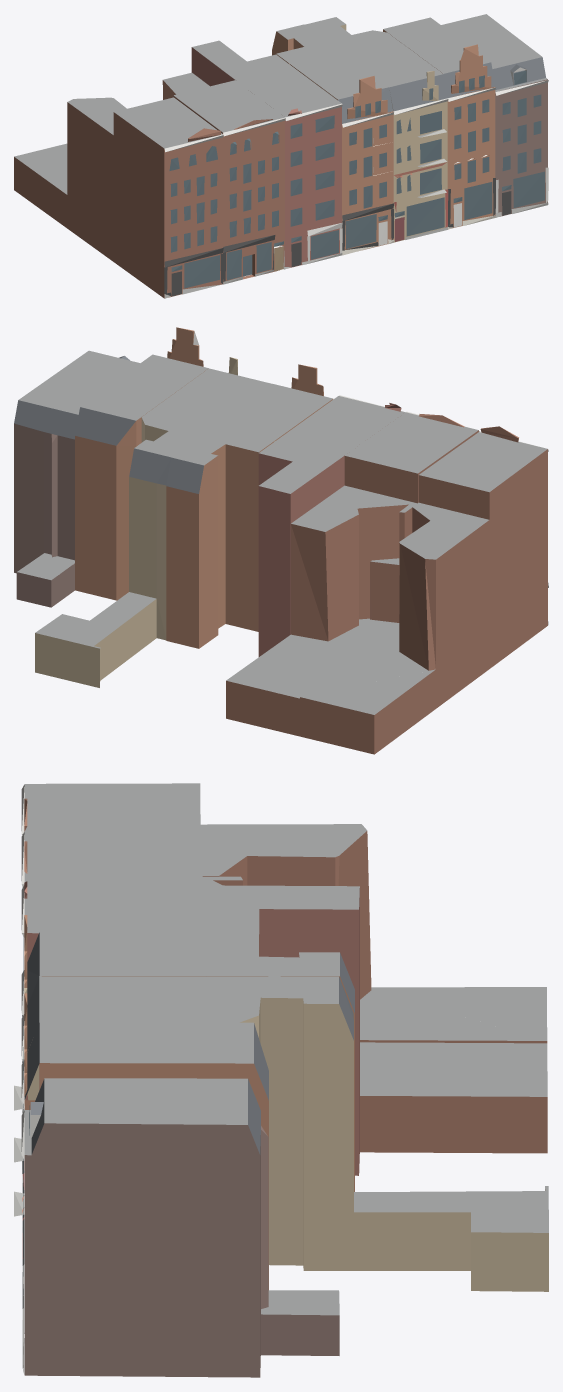
File: chunk-face-bilder-081118-155417.lod2.glb
3 renders of one model, top to bottom at view 1: azimuth 30°, elevation 25°; view 2: azimuth 150°, elevation 25°; view 3: azimuth 270°, elevation 25°, orthographic. The views are drawn at different scales.
Parts seen in each view (by area): view 1: lod2; view 2: lod2; view 3: lod2.
Part boxes in pixels (x1,y1,x2,y2): lod2: [14, 14, 548, 298]; lod2: [14, 327, 548, 754]; lod2: [14, 783, 548, 1377].
Size of the model in its own units: 45.35 by 19.8 by 30.9.
